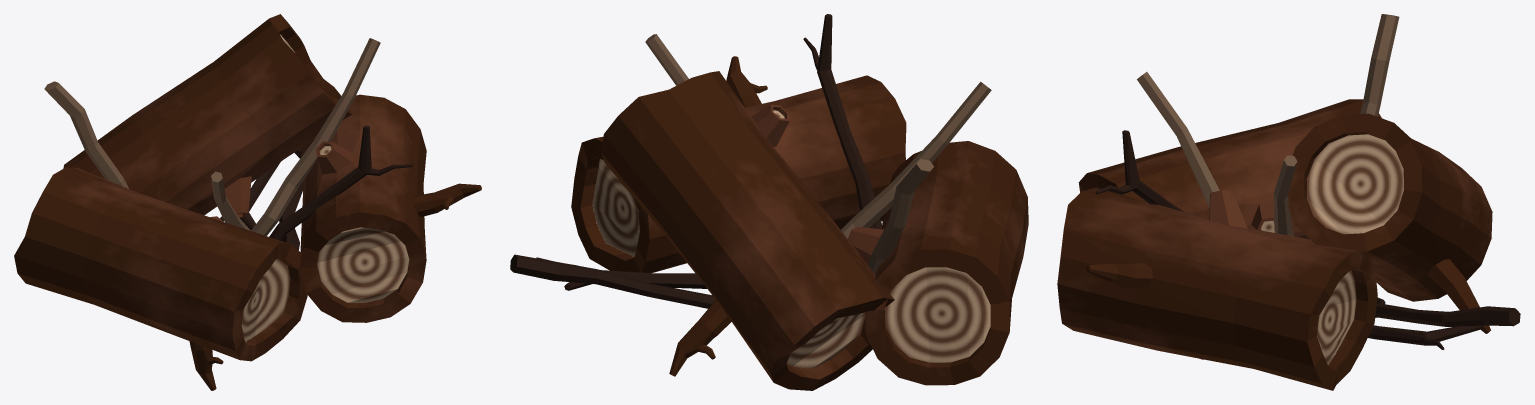
File: Hoguera.fbx
3 renders of one model, left to right at view 1: azimuth 30°, elevation 25°; view 2: azimuth 150°, elevation 25°; view 3: azimuth 270°, elevation 25°, orthographic. The views are drawn at different scales.
Parts seen in each view (by area): view 1: Tronco.001, Tronco, Tronco.002, Rama2.001, Rama1, Rama2, Rama2.002, Rama1.002, Rama1.001; view 2: Tronco, Tronco.001, Tronco.002, Rama1.002, Rama1, Rama2.002, Rama2, Rama1.001, Rama2.001; view 3: Tronco.002, Tronco, Tronco.001, Rama1.002, Rama2.002, Rama2, Rama1.001, Rama1, Rama2.001.
Part boxes in pixels (x1=…): Tronco.001: x1=14, y1=167, x2=307, y2=390; Tronco: x1=63, y1=14, x2=351, y2=217; Tronco.002: x1=300, y1=94, x2=481, y2=322; Rama2.001: x1=251, y1=38, x2=380, y2=235; Rama1: x1=269, y1=125, x2=412, y2=241; Rama2: x1=44, y1=81, x2=128, y2=188; Rama2.002: x1=211, y1=171, x2=250, y2=230; Rama1.002: x1=220, y1=162, x2=280, y2=229; Rama1.001: x1=279, y1=148, x2=302, y2=250; Tronco: x1=601, y1=71, x2=894, y2=390; Tronco.001: x1=848, y1=141, x2=1028, y2=385; Tronco.002: x1=571, y1=56, x2=906, y2=272; Rama1.002: x1=510, y1=254, x2=715, y2=308; Rama1: x1=803, y1=14, x2=882, y2=229; Rama2.002: x1=841, y1=81, x2=991, y2=238; Rama2: x1=868, y1=159, x2=933, y2=274; Rama1.001: x1=536, y1=257, x2=707, y2=290; Rama2.001: x1=645, y1=34, x2=688, y2=85; Tronco.002: x1=1057, y1=187, x2=1377, y2=390; Tronco: x1=1288, y1=113, x2=1492, y2=333; Tronco.001: x1=1078, y1=99, x2=1381, y2=359; Rama1.002: x1=1375, y1=297, x2=1520, y2=326; Rama2.002: x1=1137, y1=72, x2=1219, y2=208; Rama2: x1=1360, y1=14, x2=1399, y2=116; Rama1.001: x1=1368, y1=325, x2=1483, y2=349; Rama1: x1=1095, y1=130, x2=1183, y2=211; Rama2.001: x1=1273, y1=155, x2=1297, y2=236.
Bounding box in the file's own units: 363 × 247 × 324.
